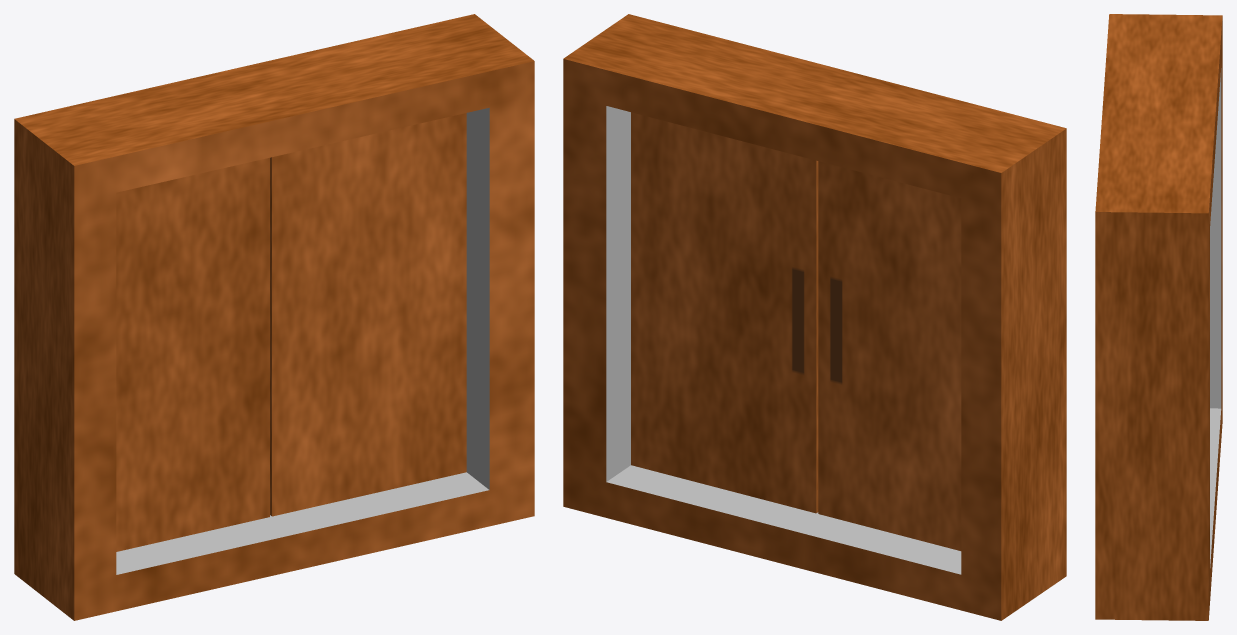
The model's file is door.obj.
3 views of the same model, side by side, from view 1: azimuth 30°, elevation 25°; view 2: azimuth 150°, elevation 25°; view 3: azimuth 270°, elevation 25° (orthographic). The views are drawn at different scales.
Parts seen in each view (by area): view 1: 立方体.002, 立方体, 立方体.001; view 2: 立方体.002, 立方体, 立方体.001; view 3: 立方体.002.
Boxes of the visible parts, left/top/right/bottom form: 立方体.002: left=14, top=14, right=534, bottom=620; 立方体: left=270, top=113, right=466, bottom=516; 立方体.001: left=116, top=157, right=269, bottom=551; 立方体.002: left=563, top=14, right=1066, bottom=620; 立方体: left=631, top=112, right=818, bottom=513; 立方体.001: left=818, top=161, right=961, bottom=550; 立方体.002: left=1095, top=14, right=1222, bottom=620.
Size of the model in its own units: 2 by 1.9 by 0.5382.
